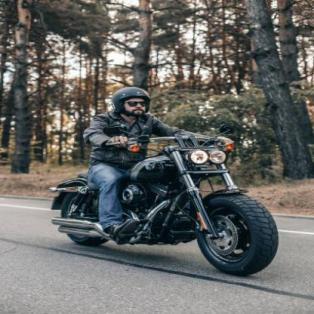Motocicleta: (48, 135, 278, 279)
